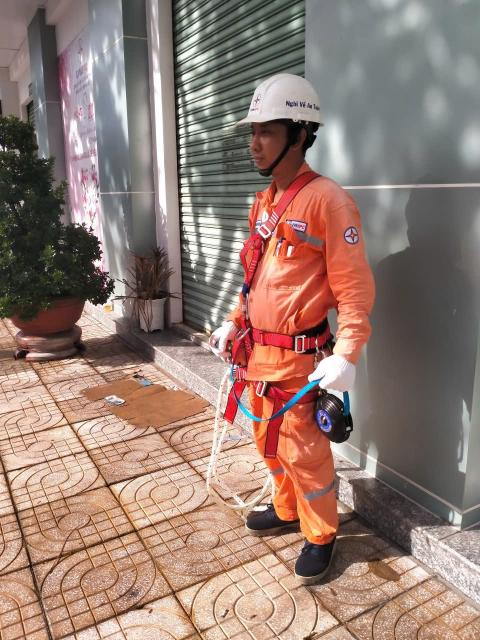gloves: (303, 356, 371, 397), (189, 321, 250, 357)
harness: (240, 316, 337, 355)
helmet: (220, 56, 335, 132)
shoes: (297, 528, 351, 582), (235, 494, 299, 527)
